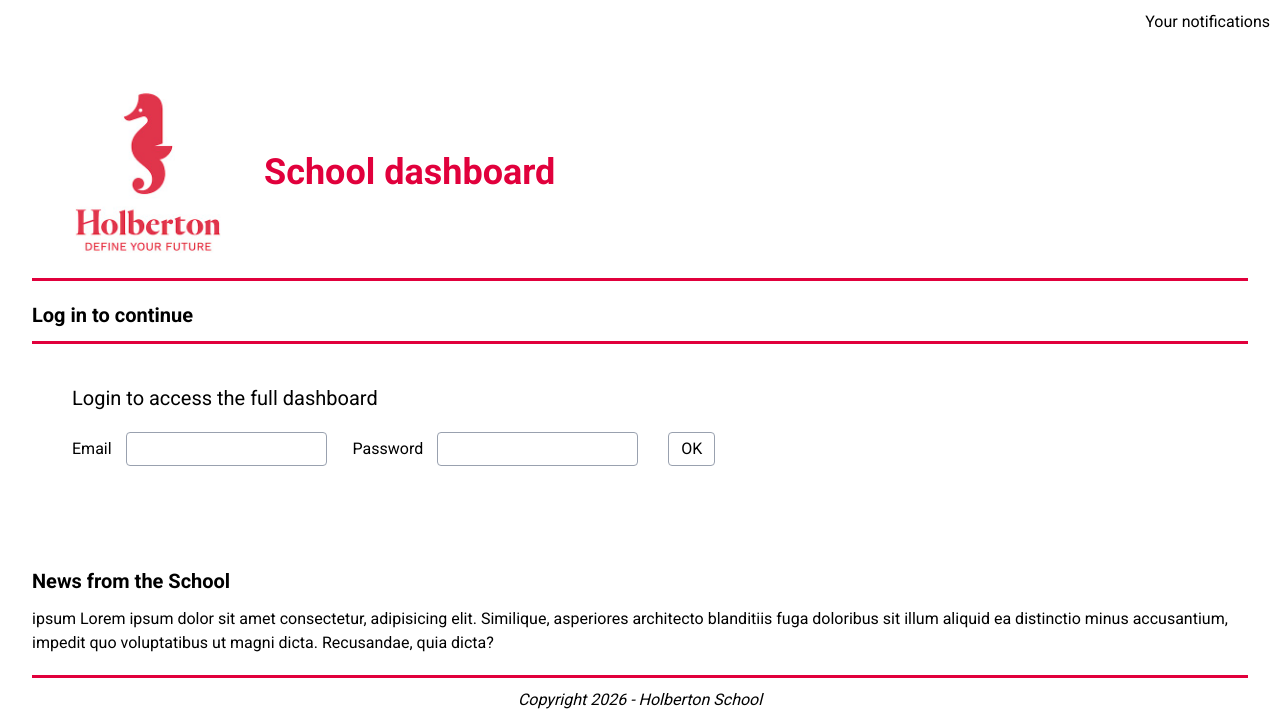
App component › notification and course state › shows the empty message after every notification is clicked
Click the text "Your notifications" at (1208, 22), box [1145,10,1270,34]
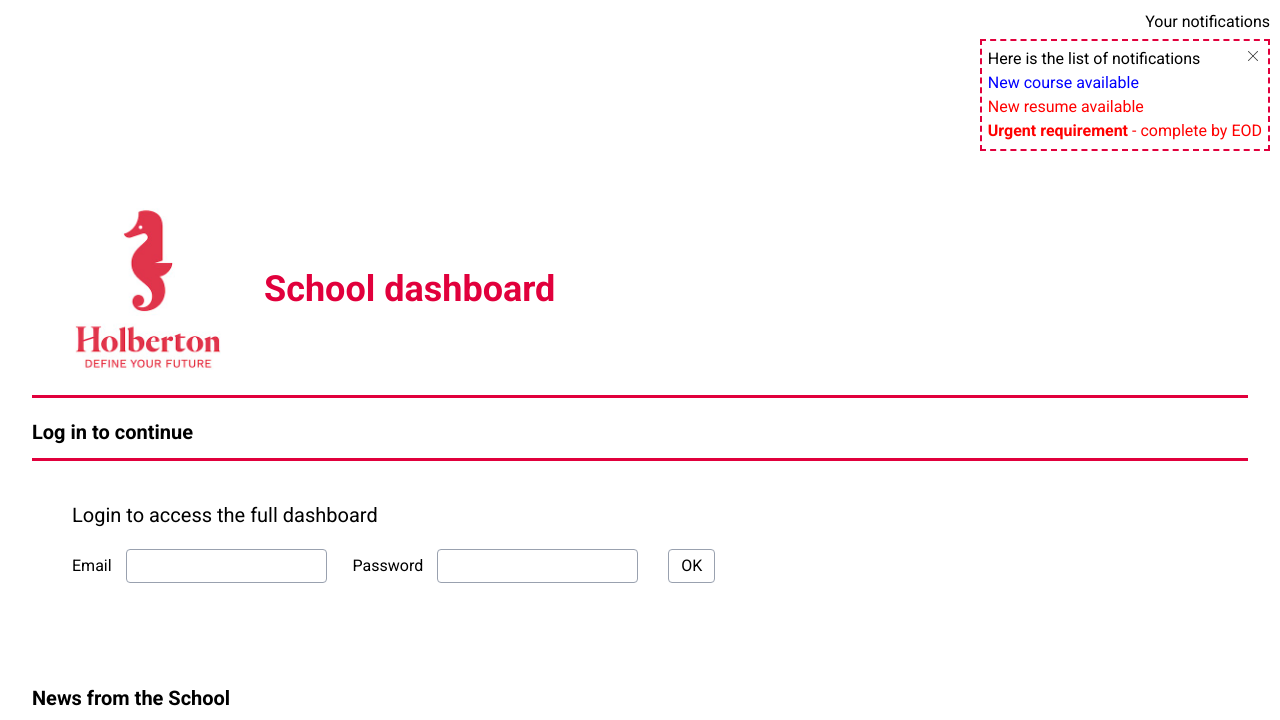
Click the list item "New course available" at (1063, 82), box [988,73,1139,92]
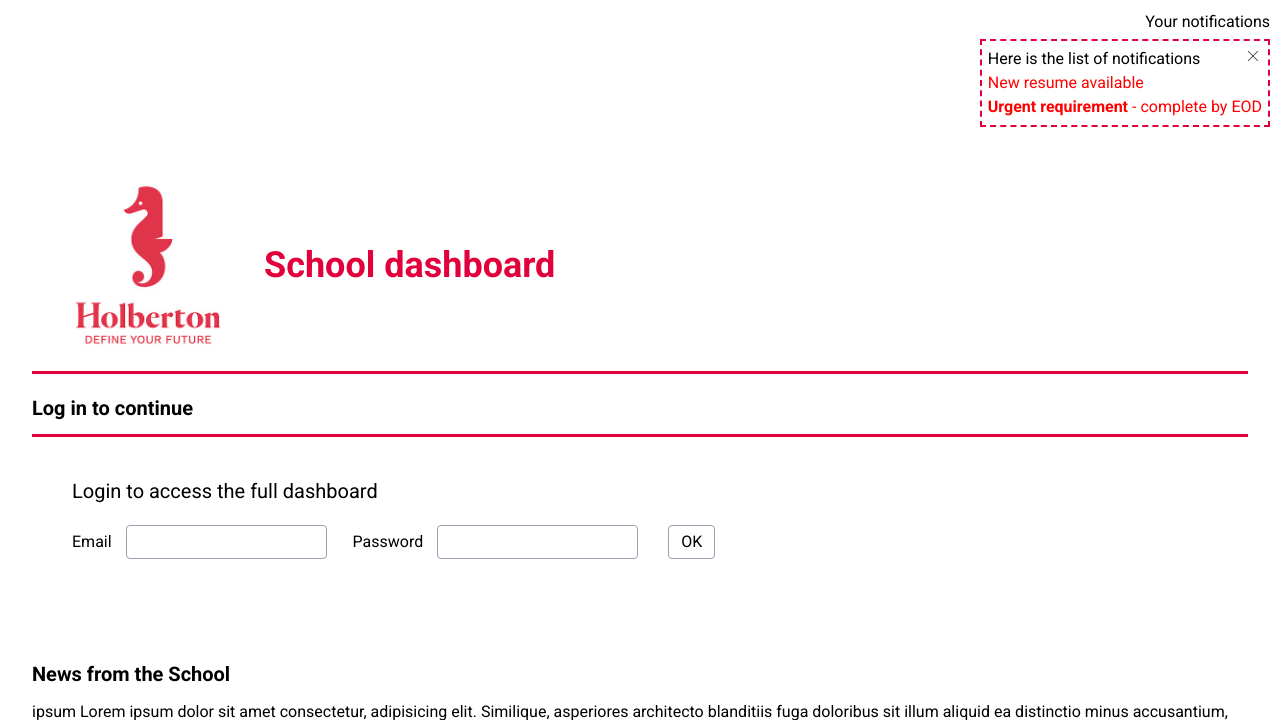
Result: the number of list items is 2
Click the list item "New resume available" at (1066, 82), box [988,73,1144,92]
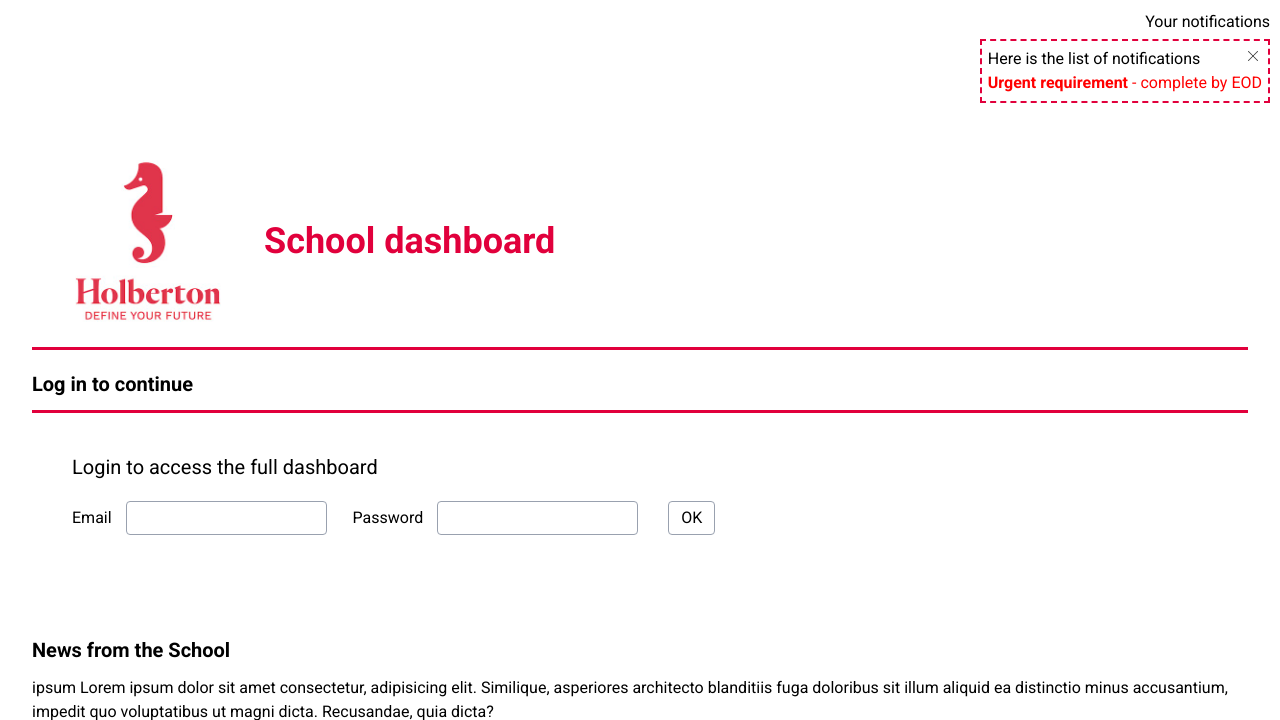
Result: the number of list items is 1
Click the list item at (1125, 83), box [988,71,1262,95]
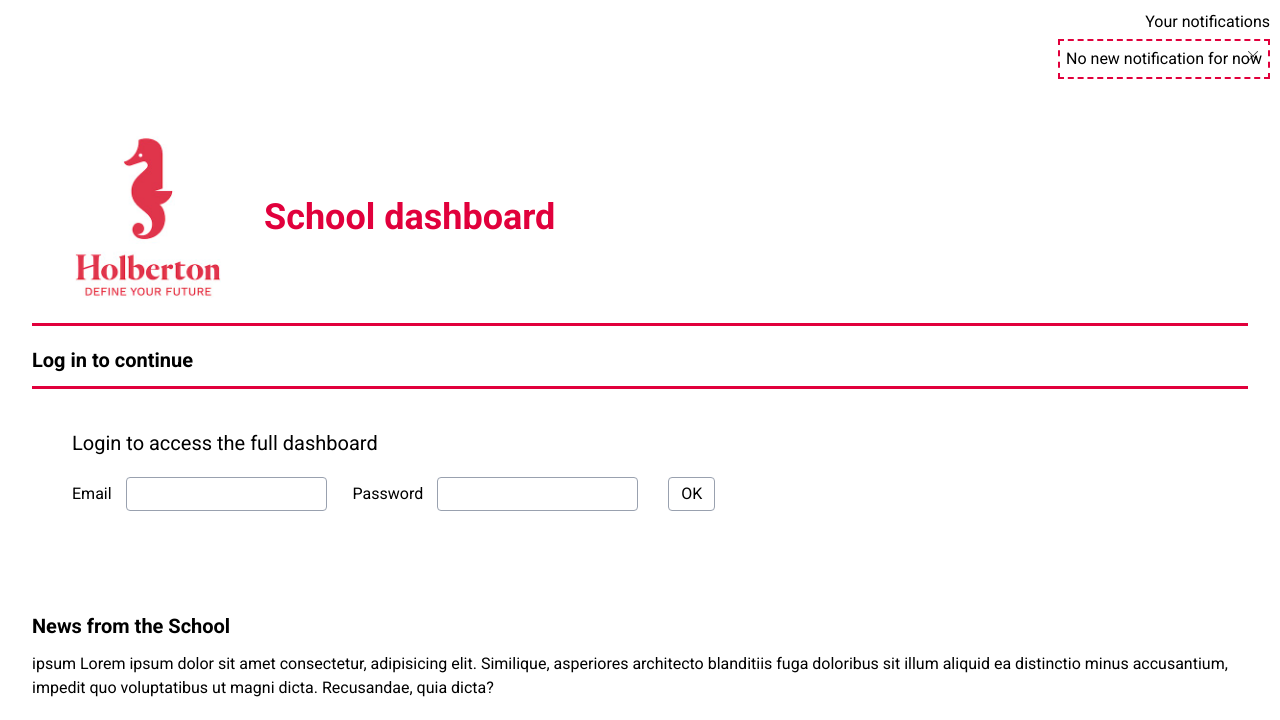
Result: no list items are shown
Result: the text "No new notification for now" is shown at [1066,47,1262,71]
